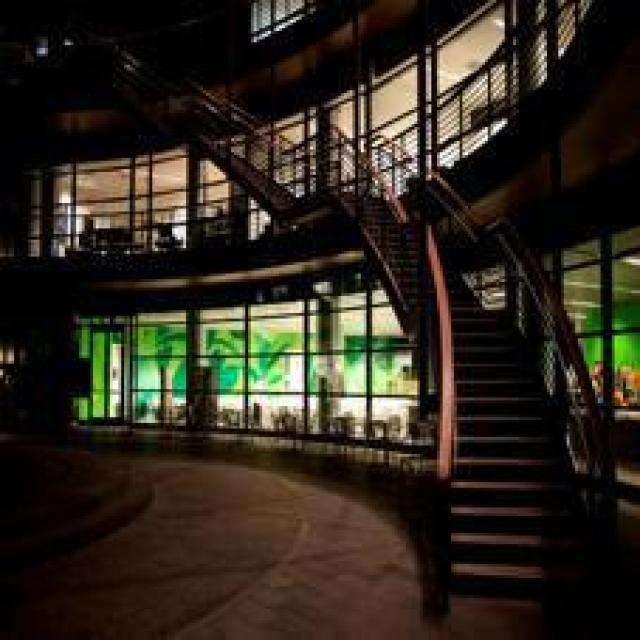upstair: (433, 464, 602, 616)
